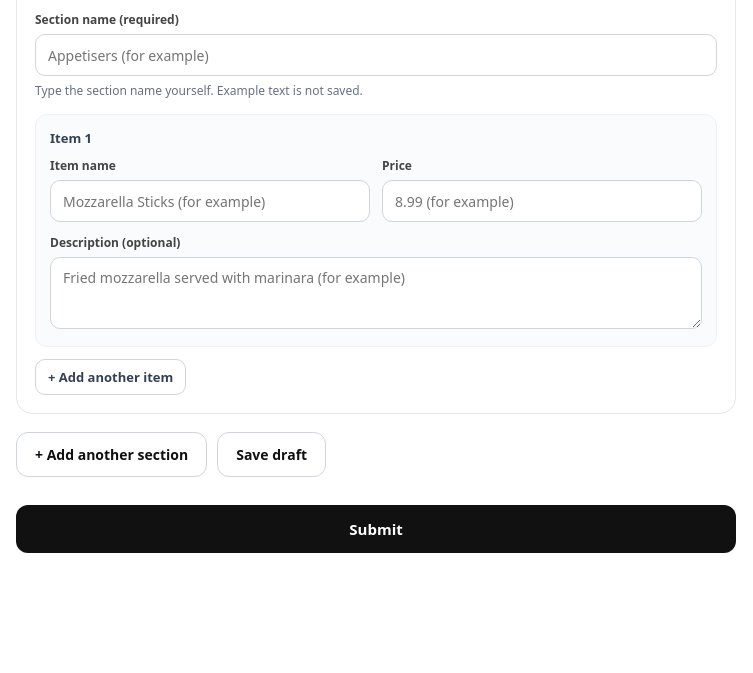
it: ManualMenuEntryPage › ignores blank placeholder rows when submitting a filled section
(page scrolled)
Click the button "+ Add another item" at (111, 377), box [35,359,186,395]
(page scrolled)
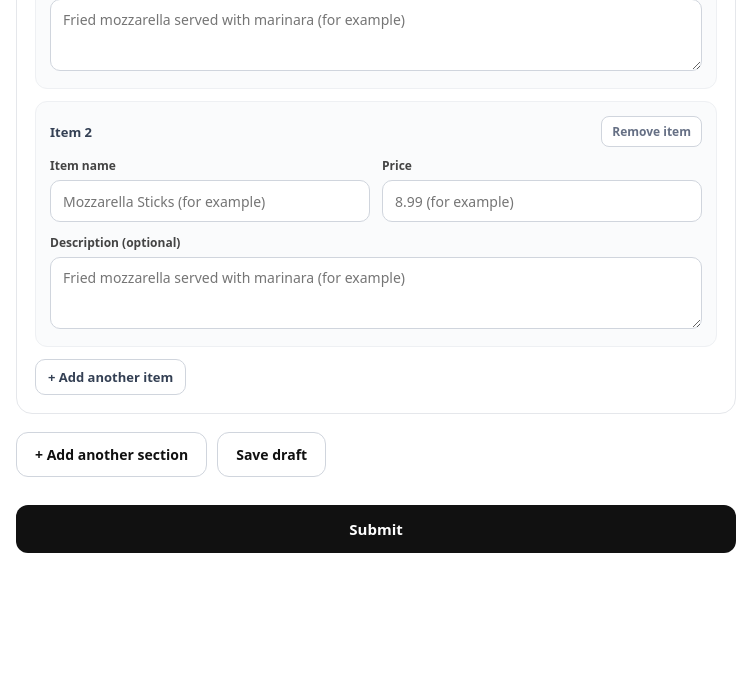
Click the button "+ Add another section" at (112, 455), box [16,432,207,477]
(page scrolled)
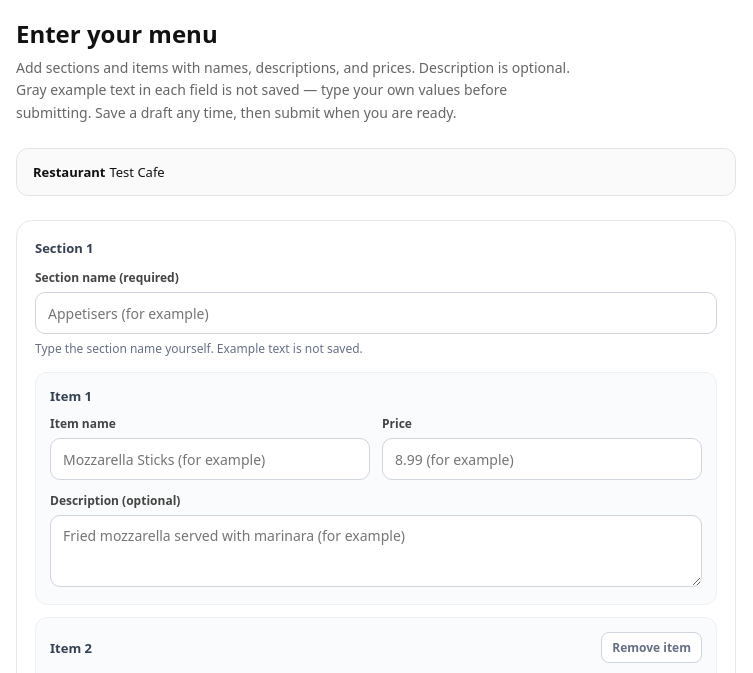
Type "Appetizers" into the field with placeholder "Appetisers (for example)" at (376, 313), box [35,292,717,334]
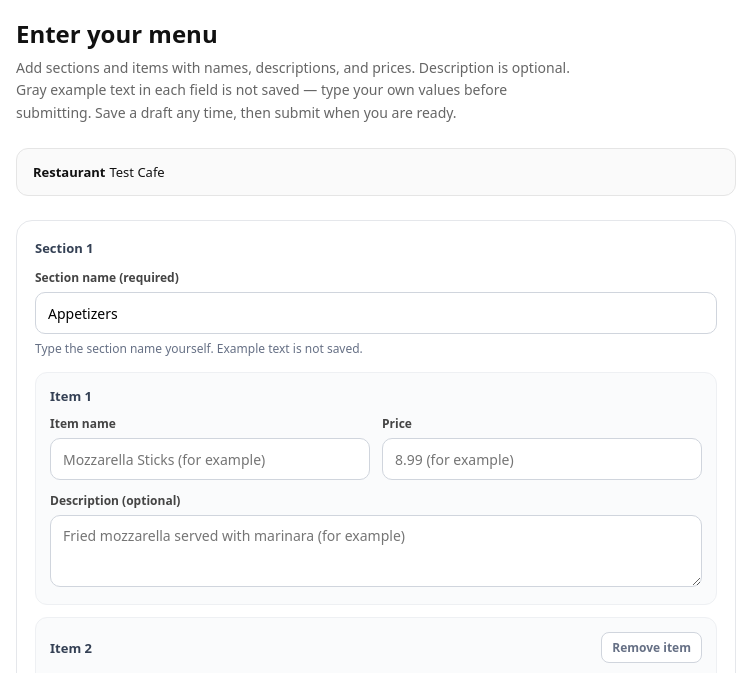
Type "Mozzarella Sticks" into the field with placeholder "Mozzarella Sticks (for example)" at (210, 459), box [50,438,370,480]
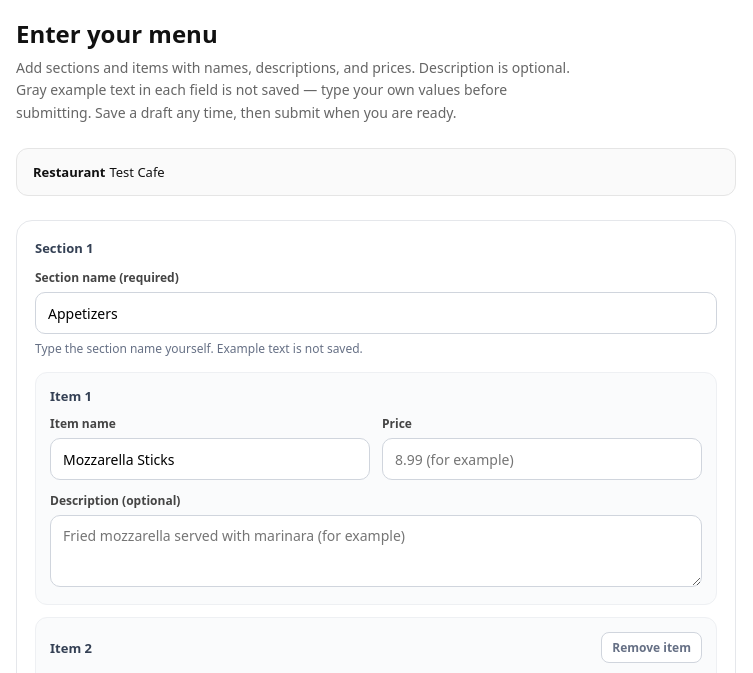
Type "8.99" into the field with placeholder "8.99 (for example)" at (542, 459), box [382,438,702,480]
(page scrolled)
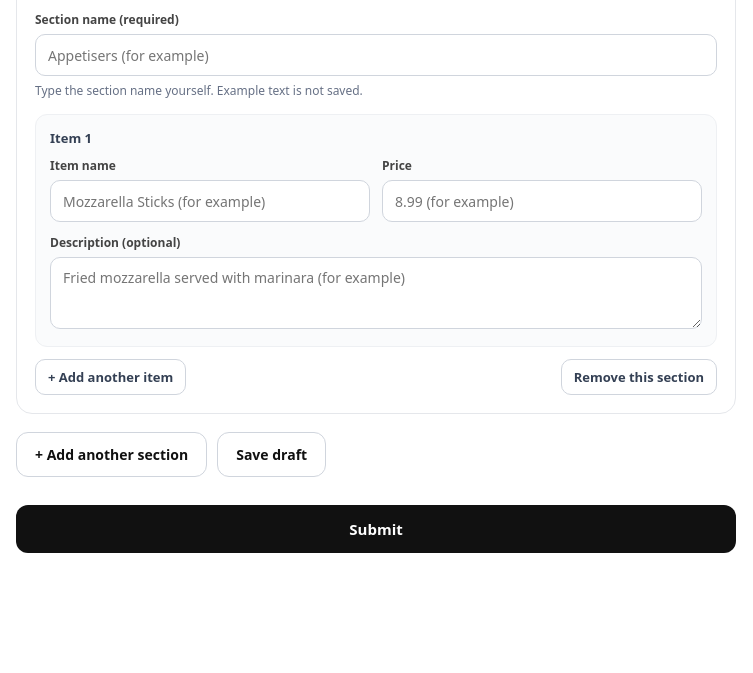
Click the button "Submit" at (376, 529), box [16,505,736,553]
(page scrolled)
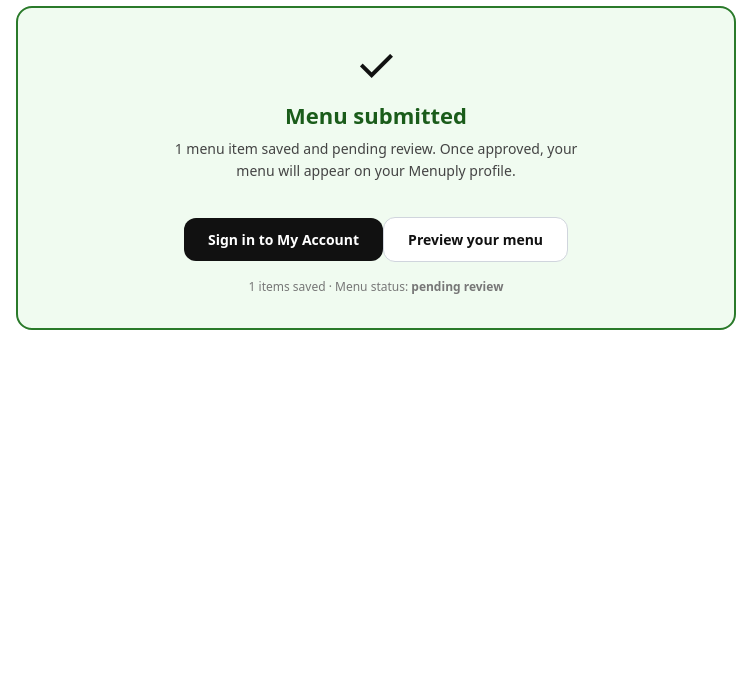
Check: the text "Menu submitted" is shown, box [285,100,467,130]
